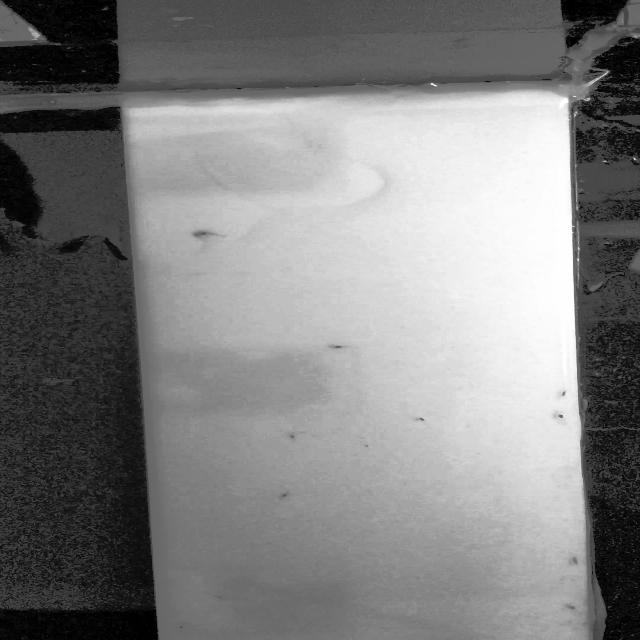shrimp: (179, 227, 223, 242), (319, 339, 360, 354), (542, 411, 578, 424), (275, 428, 301, 446), (168, 619, 195, 634), (557, 599, 581, 612), (273, 492, 300, 502), (411, 416, 438, 426), (210, 590, 232, 601)
